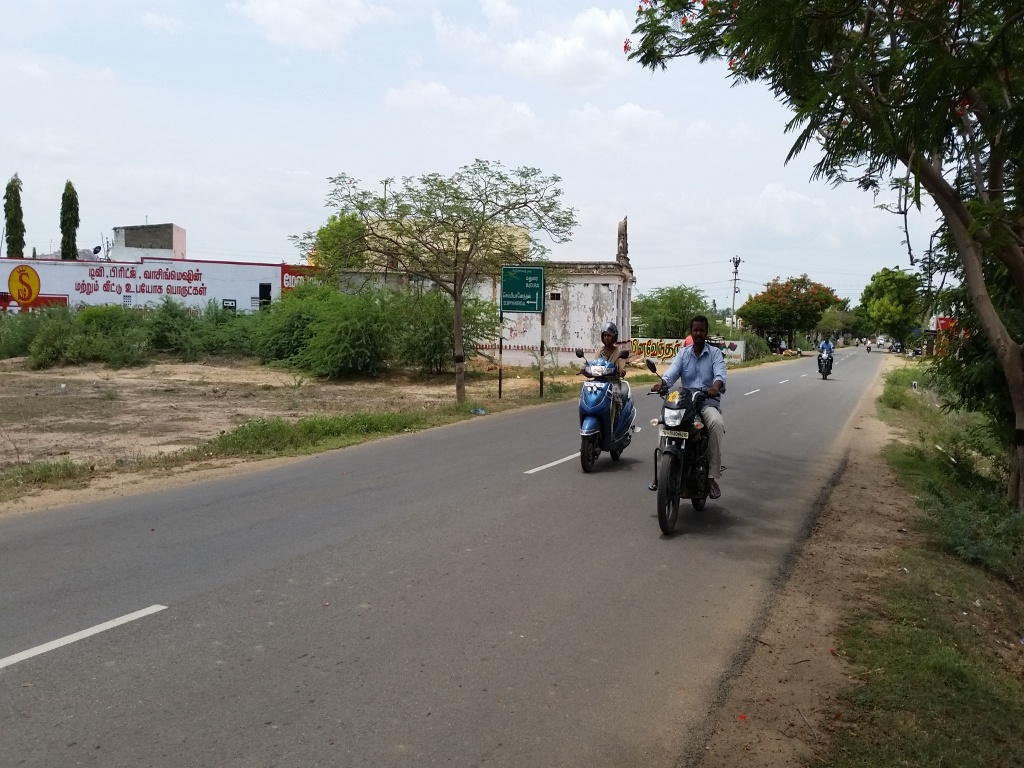biker: (641, 293, 763, 544), (562, 302, 641, 481)
helmet: (598, 316, 625, 362)
nohelmet: (685, 307, 718, 358)
